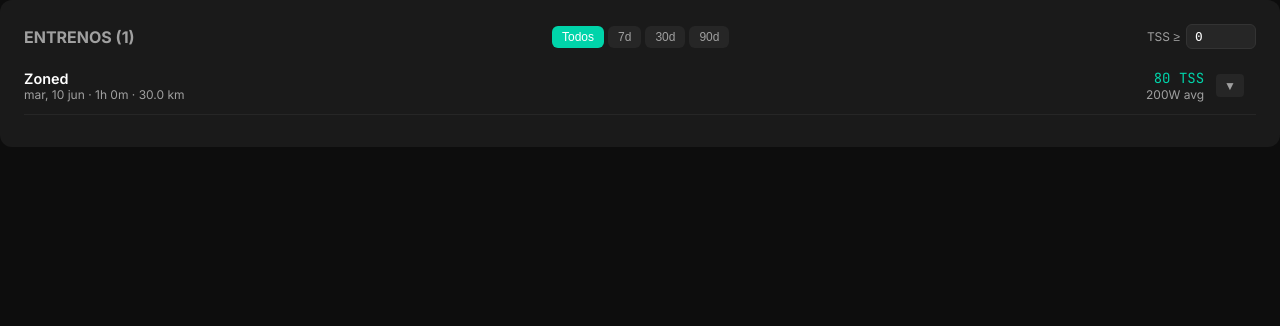
Test: WorkoutList › renders zones bars when time_in_zones_json is provided
Click the text "Zoned" at (46, 78), box [24,70,68,86]
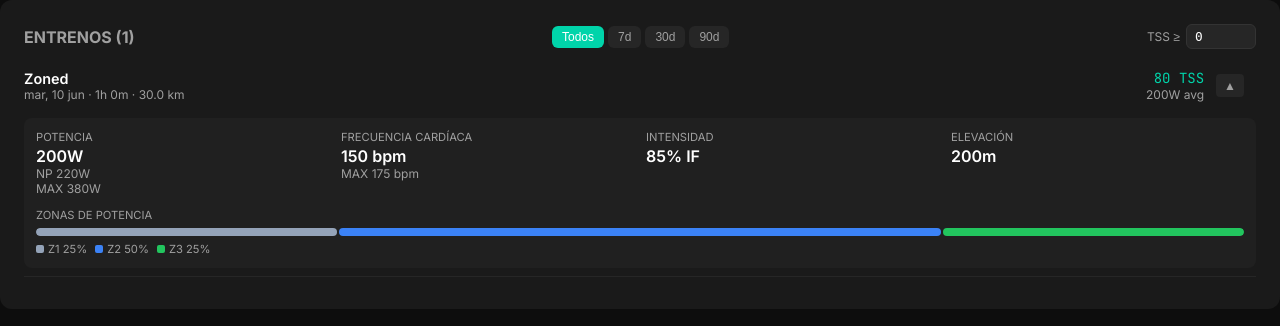
Now the text "ZONAS DE POTENCIA" is shown, box [36,208,152,222]
Now the text "Z1 25%" is shown, box [48,242,87,256]
Now the text "Z2 50%" is shown, box [107,242,149,256]
